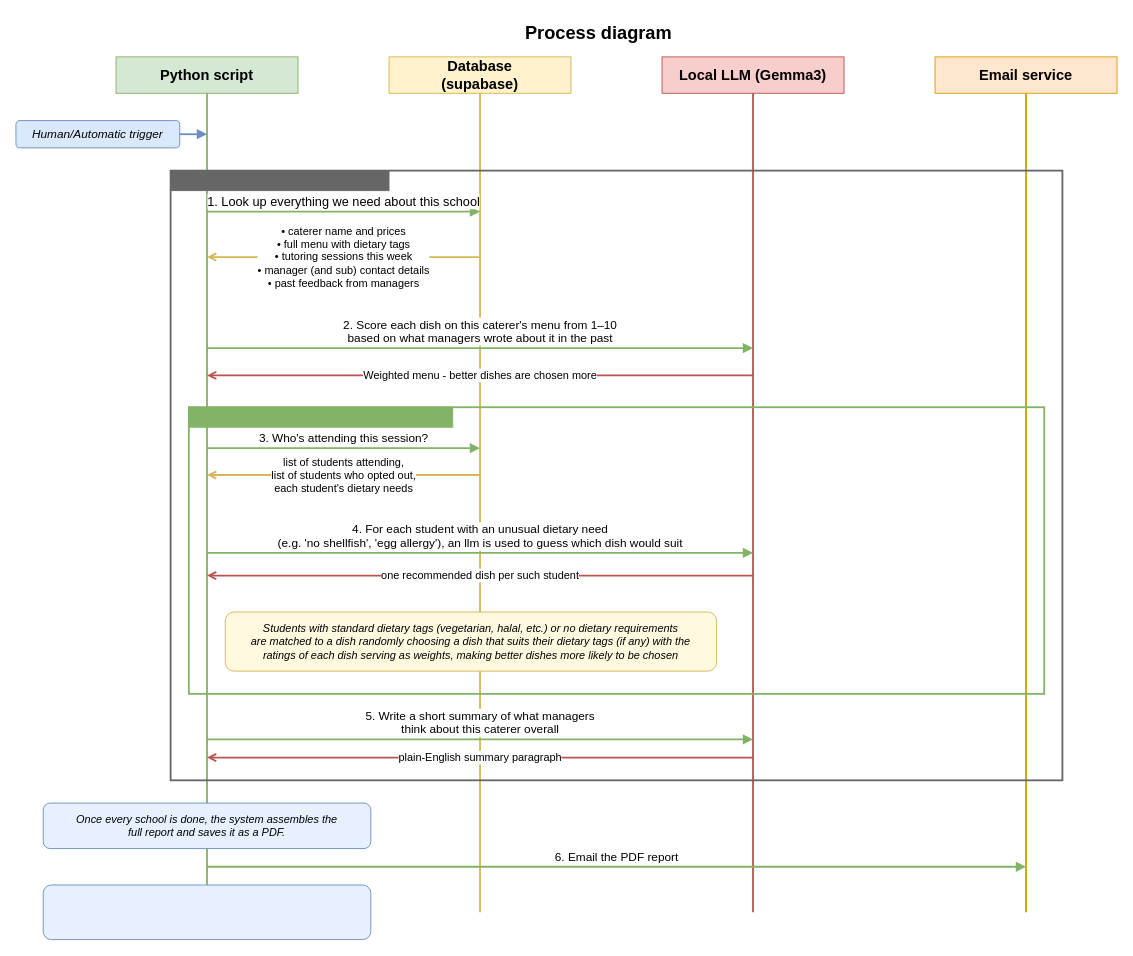
Some shapes in this 1133 by 956 pixel diagram are drawn without their labels. The shapes that lost their labels are listed below. From the top down, each one's box as (x1, y1, x2, y2) in pixels, then its label:
(170, 170, 389, 191): REPEAT FOR EACH SCHOOL
(188, 406, 453, 427): REPEAT FOR EACH SESSION THIS WEEK
(42, 884, 371, 940): Complete
